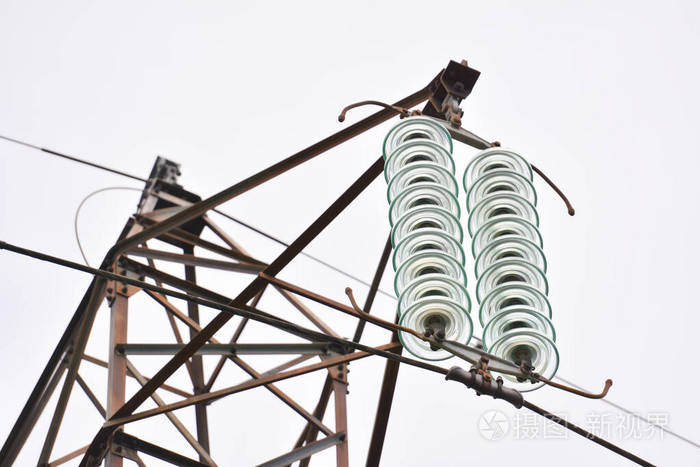insulator: (467, 148, 557, 391), (382, 118, 470, 365)
